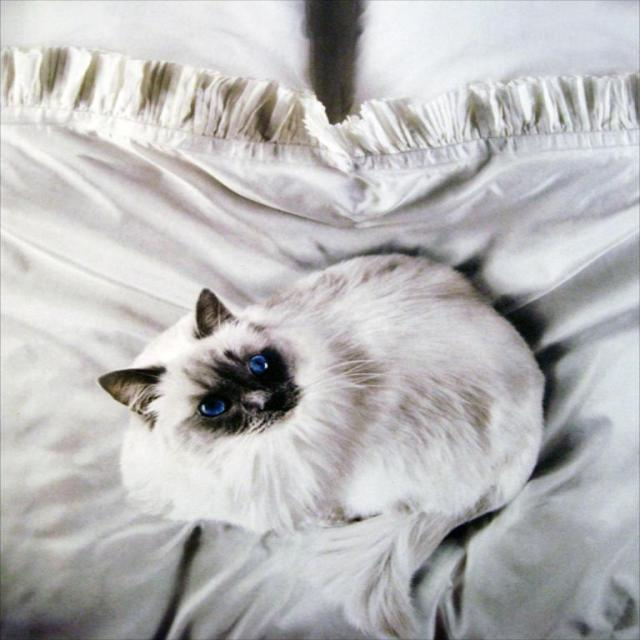Cat: (92, 249, 551, 638)
